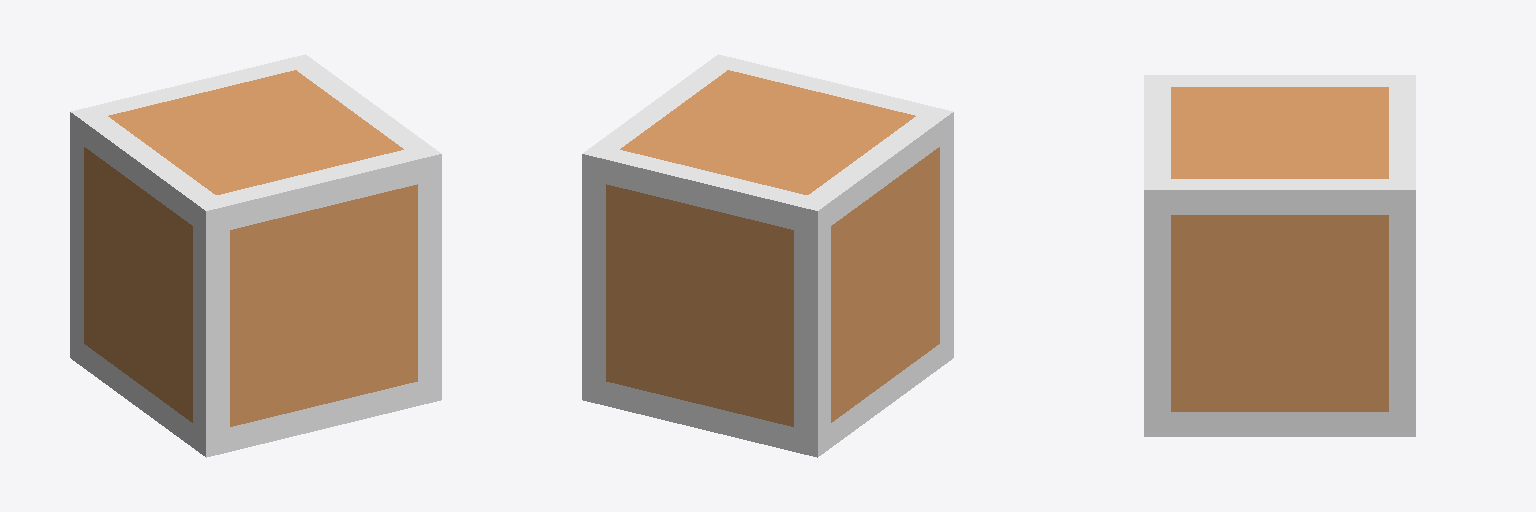
3 views of the same model, side by side, from view 1: azimuth 30°, elevation 25°; view 2: azimuth 150°, elevation 25°; view 3: azimuth 270°, elevation 25° (orthographic).
Visible parts, largest first — view 1: object 1; view 2: object 1; view 3: object 1.
Part boxes in pixels (x1,y1,x2,y2): object 1: (70,54,441,457); object 1: (582,54,953,457); object 1: (1144,75,1415,436).
Bounding box in the file's own units: 1 × 1 × 1.
1 materials, 1 textured.